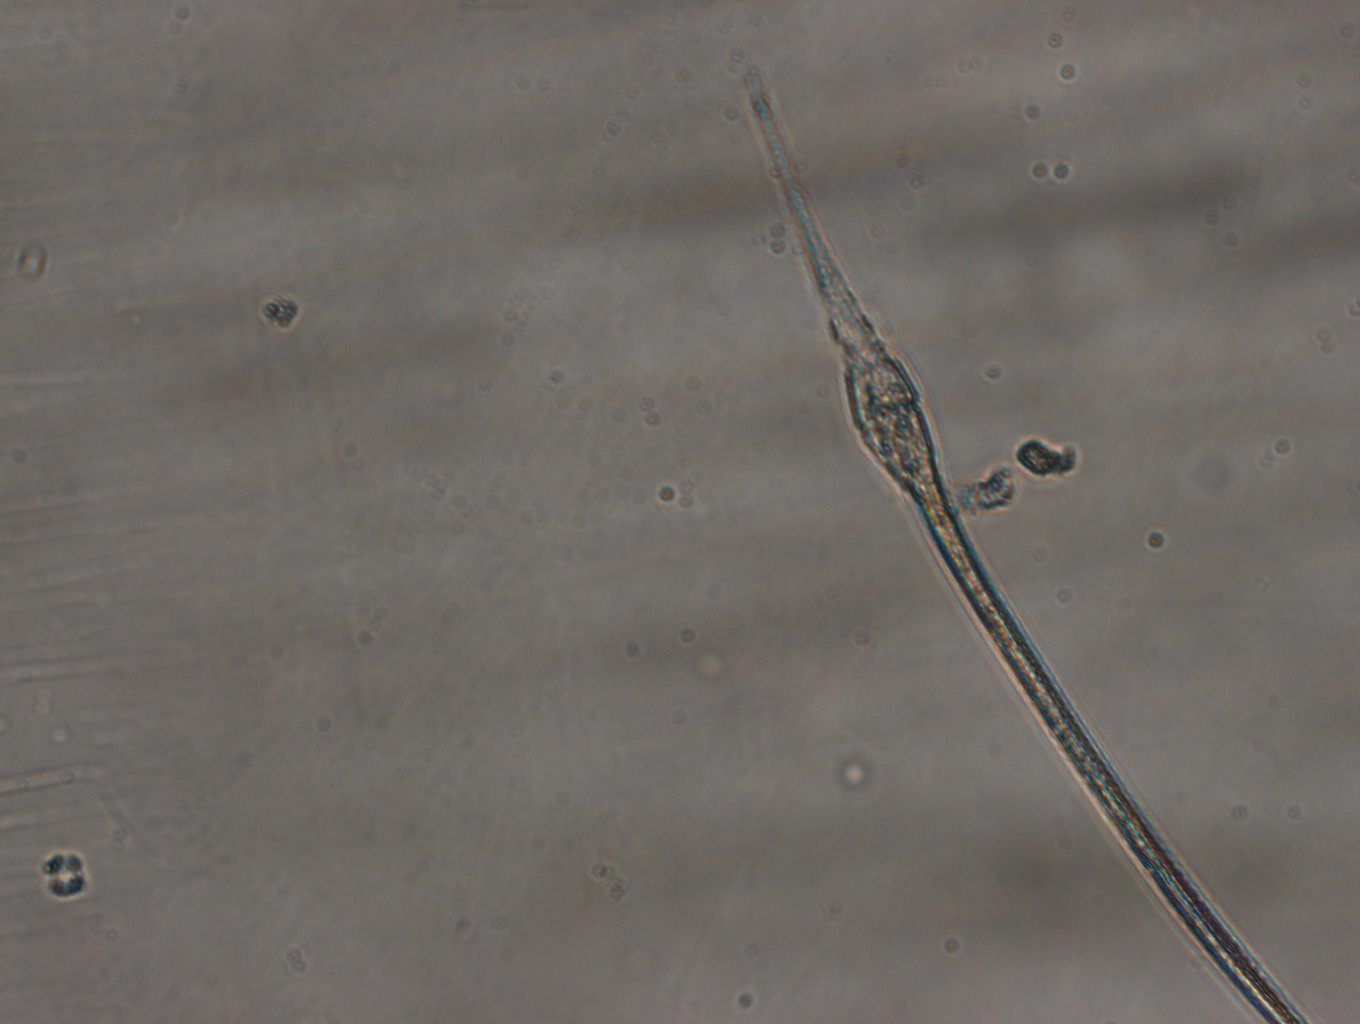ceratium fusus: (739, 67, 1303, 1024)
